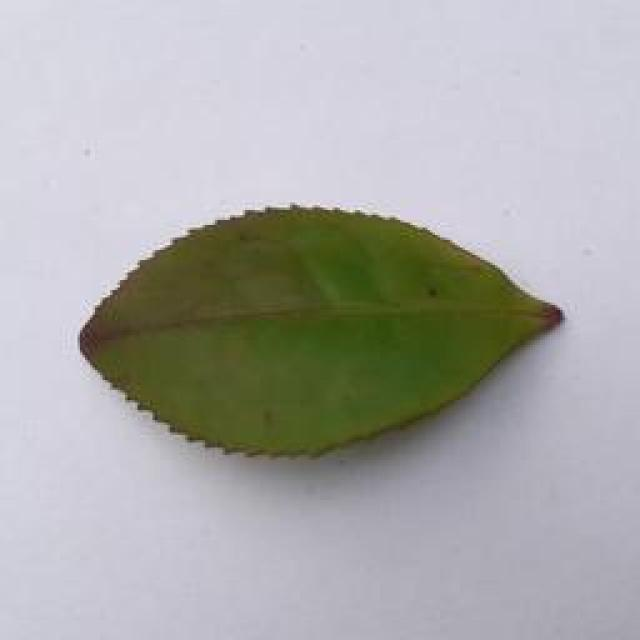Red Leaf Spot: (45, 185, 570, 472)
